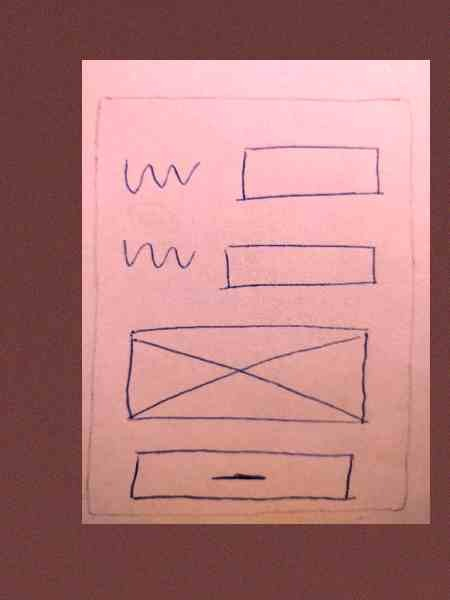button: (117, 445, 365, 506)
image: (114, 317, 385, 436)
text: (112, 148, 204, 199), (114, 232, 198, 280)
text_input: (227, 138, 392, 207), (210, 236, 383, 297)
